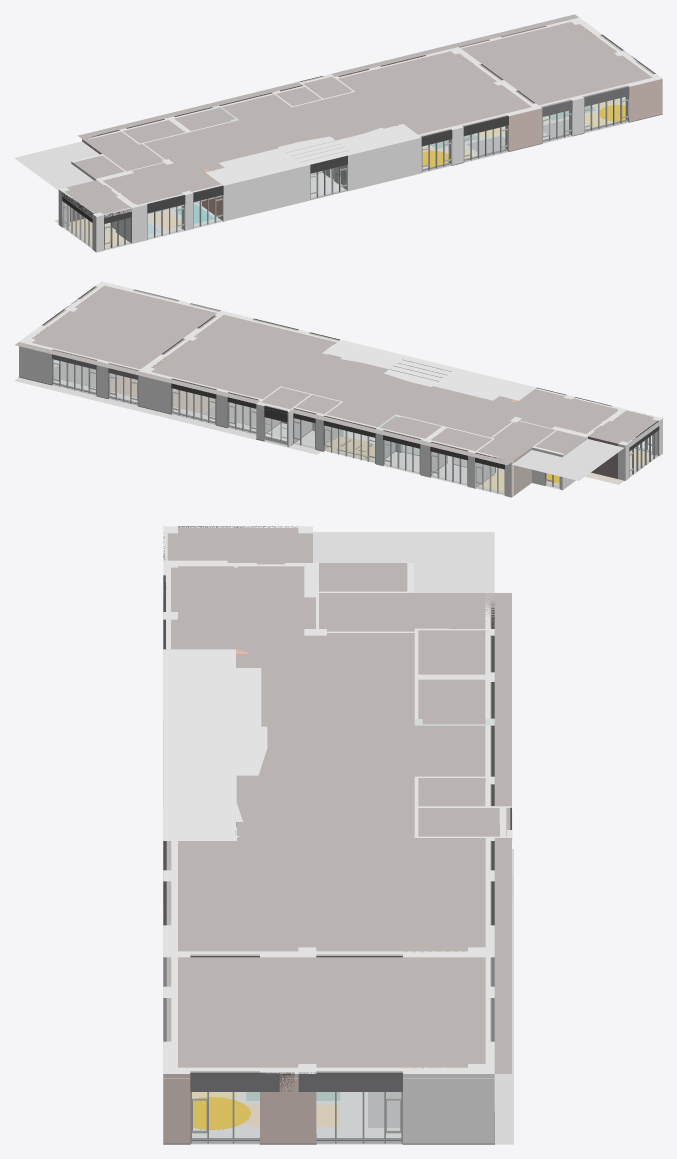
The picture shows the model from 3 angles, top to bottom: view 1: azimuth 30°, elevation 25°; view 2: azimuth 150°, elevation 25°; view 3: azimuth 270°, elevation 25°; orthographic projection. The views are drawn at different scales.
Visible parts, largest first — view 1: Wall_DING, Wall_All__2_, Window_UP, Window_Iron, Floor, Scene_Ground_7__1_, window, Window_Down, polySurface769, polySurface773; view 2: Wall_DING, Wall_All__2_, Floor, Window_Iron, Window_UP, Scene_Ground_7__1_, window2, Window_Down, w1, RelxBed_BedCloth, polySurface765, polySurface764 (+2 smaller); view 3: Wall_DING, Wall_All__2_, Scene_Ground_7__1_, Floor, window1, Window_UP, Carpet1, w1, Bottom.
Part boxes in pixels (left/top/right/bottom): Wall_DING: left=64, top=14, right=653, bottom=214; Wall_All__2_: left=58, top=17, right=662, bottom=252; Window_UP: left=62, top=34, right=655, bottom=223; Window_Iron: left=62, top=125, right=508, bottom=249; Floor: left=54, top=97, right=649, bottom=252; Scene_Ground_7__1_: left=14, top=124, right=410, bottom=190; window: left=542, top=86, right=629, bottom=142; Window_Down: left=63, top=150, right=507, bottom=249; polySurface769: left=466, top=136, right=505, bottom=154; polySurface773: left=148, top=211, right=181, bottom=230; Wall_DING: left=15, top=285, right=657, bottom=465; Wall_All__2_: left=19, top=281, right=662, bottom=497; Floor: left=14, top=359, right=655, bottom=497; Window_Iron: left=171, top=388, right=658, bottom=495; Window_UP: left=42, top=286, right=659, bottom=469; Scene_Ground_7__1_: left=322, top=345, right=624, bottom=480; window2: left=52, top=349, right=138, bottom=405; Window_Down: left=172, top=413, right=658, bottom=494; w1: left=54, top=361, right=119, bottom=387; RelxBed_BedCloth: left=326, top=436, right=374, bottom=461; polySurface765: left=173, top=389, right=215, bottom=413; polySurface764: left=202, top=402, right=256, bottom=426; Wall_DING: left=165, top=528, right=511, bottom=1073; Wall_All__2_: left=163, top=526, right=511, bottom=1144; Scene_Ground_7__1_: left=163, top=532, right=512, bottom=1078; Floor: left=163, top=598, right=513, bottom=1144; window1: left=190, top=1073, right=402, bottom=1143; Window_UP: left=163, top=526, right=511, bottom=1091; Carpet1: left=193, top=1097, right=250, bottom=1129; w1: left=368, top=1092, right=401, bottom=1127; Bottom: left=192, top=1138, right=401, bottom=1143.
Bounding box in the file's own units: 11619 × 792 × 3147.
